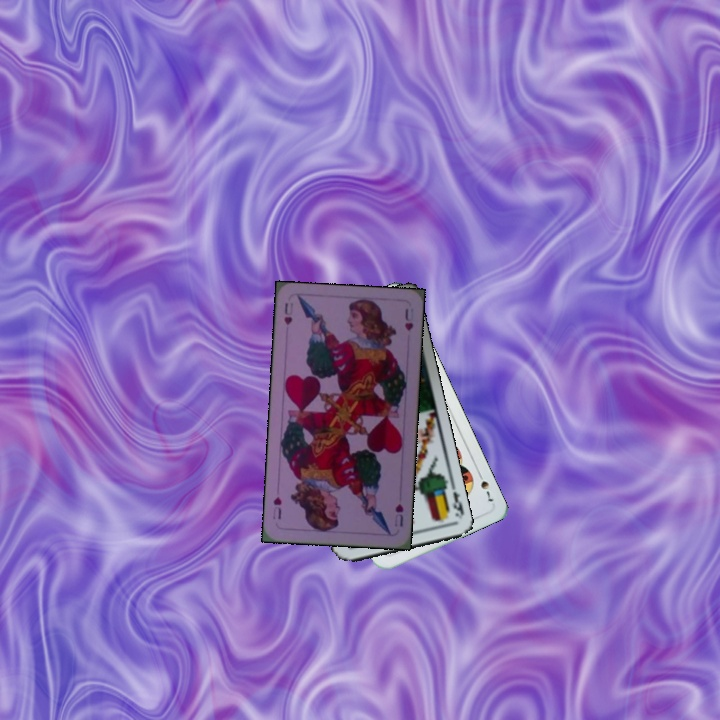EK: (449, 487, 466, 521)
HU: (280, 298, 296, 328), (390, 500, 406, 529)
S7: (473, 467, 496, 504)
